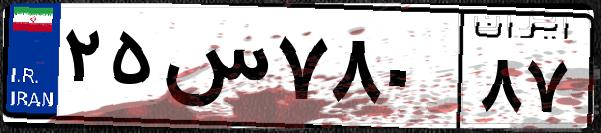0: (385, 28, 445, 110)
2: (57, 26, 110, 100)
5: (110, 28, 158, 98)
7: (270, 28, 330, 110), (525, 38, 570, 115)
8: (330, 28, 385, 110), (475, 38, 525, 113)
س: (158, 20, 270, 120)
